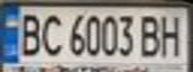0: (81, 11, 103, 57), (100, 11, 121, 57)
3: (115, 11, 139, 58)
6: (63, 10, 87, 57)
B: (15, 10, 45, 57), (136, 11, 166, 58)
C: (36, 10, 66, 57)
H: (157, 11, 187, 57)
